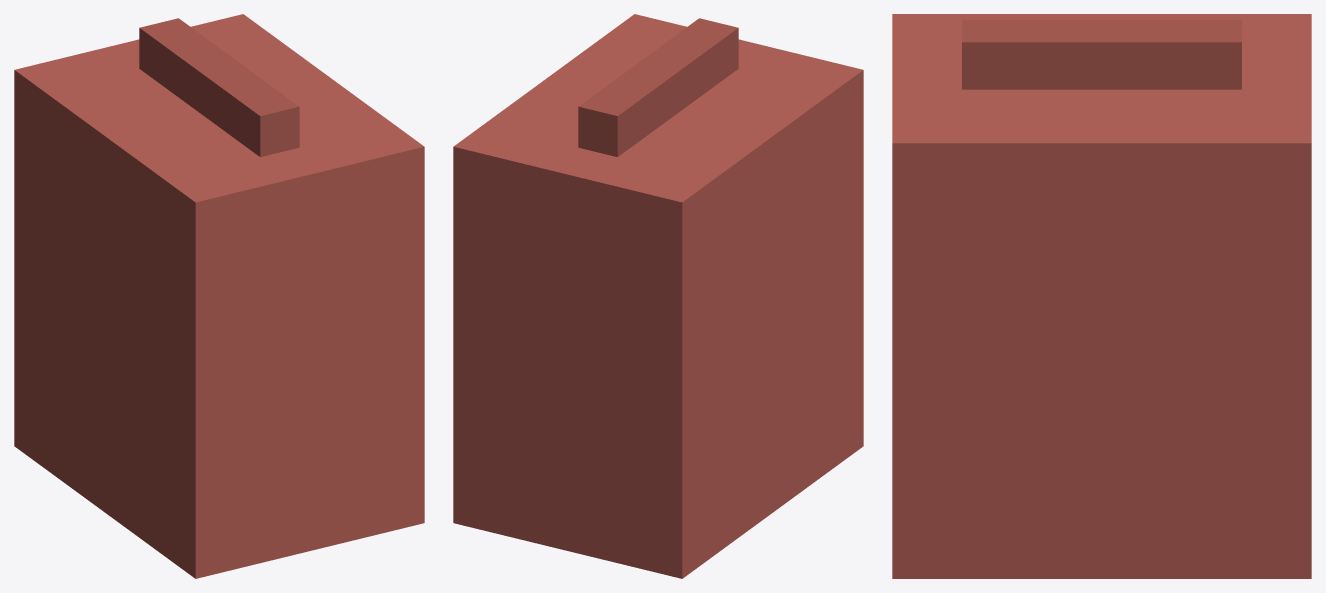
Rendered from fuel_container.glb.
3 views of the same model, side by side, from view 1: azimuth 30°, elevation 25°; view 2: azimuth 150°, elevation 25°; view 3: azimuth 270°, elevation 25° (orthographic). The views are drawn at different scales.
Parts seen in each view (by area): view 1: geometry_0; view 2: geometry_0; view 3: geometry_0.
Boxes of the visible parts, bbox=[...] form: geometry_0: bbox=[14, 14, 424, 578]; geometry_0: bbox=[453, 14, 863, 578]; geometry_0: bbox=[892, 14, 1311, 578].
Bounding box in the file's own units: 0.35 × 0.61 × 0.48.
